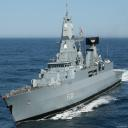Fragata: (3, 4, 125, 128)
